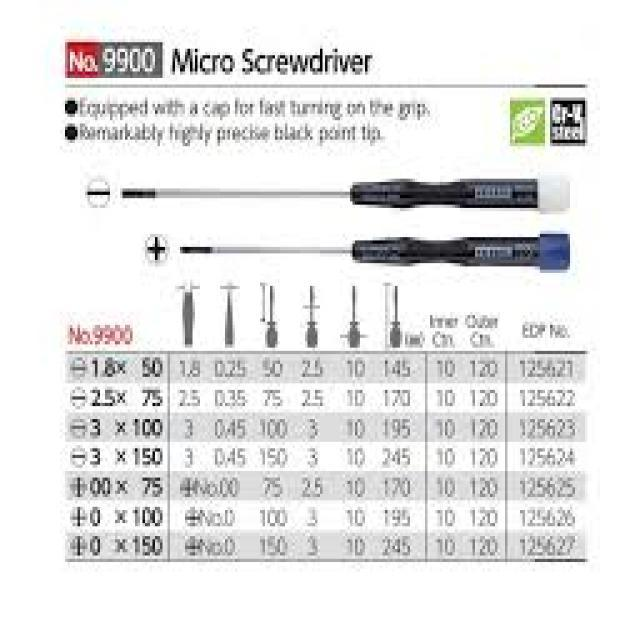screwdriver: (112, 171, 576, 216), (178, 226, 578, 274)
